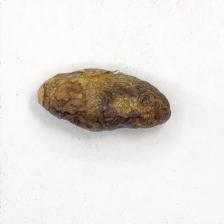NG: (39, 67, 172, 132)
